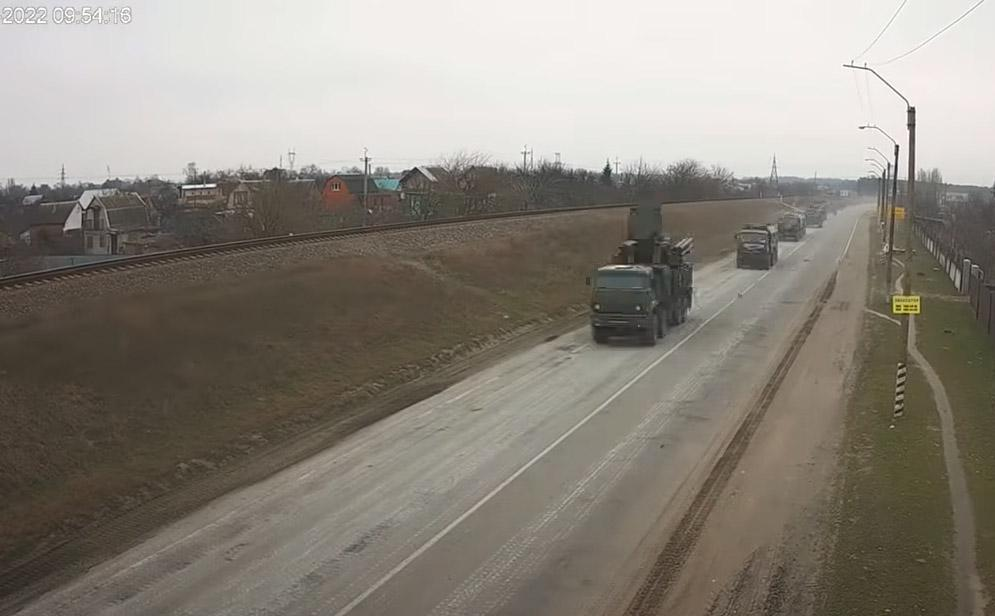truck: (589, 233, 702, 350), (734, 219, 780, 274), (782, 208, 806, 243), (808, 204, 827, 230)
